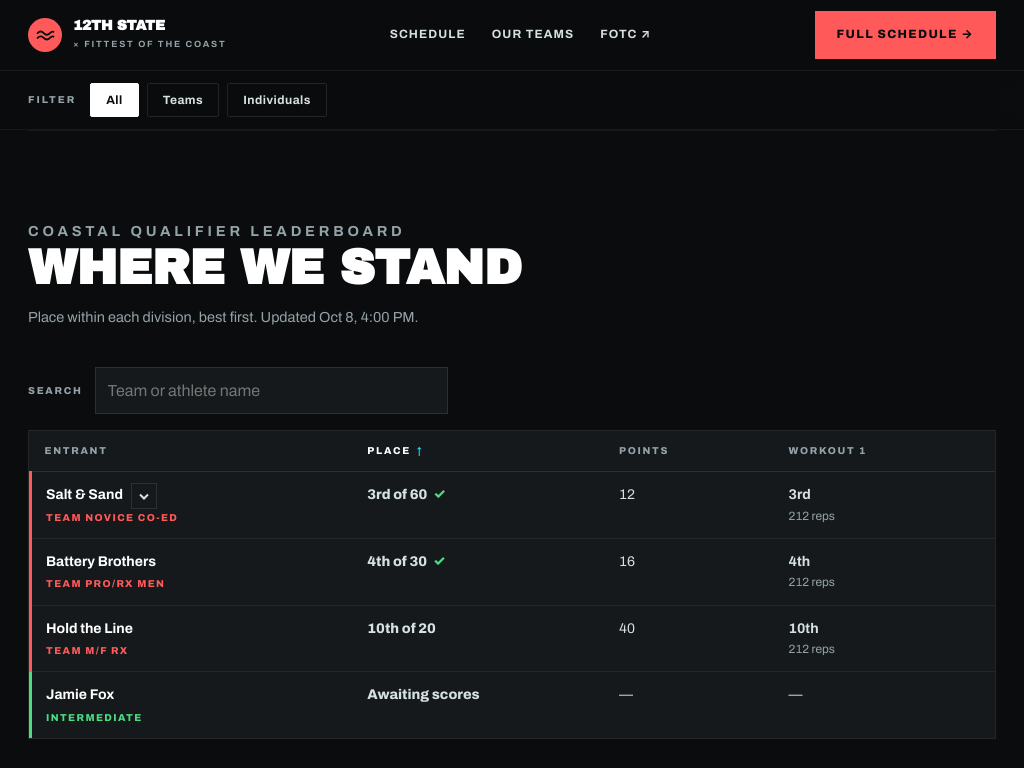
Road to Charleston › narrows the standings with the same filter as the roster
Click the button "Individuals": (277, 100) [227, 83, 327, 117]
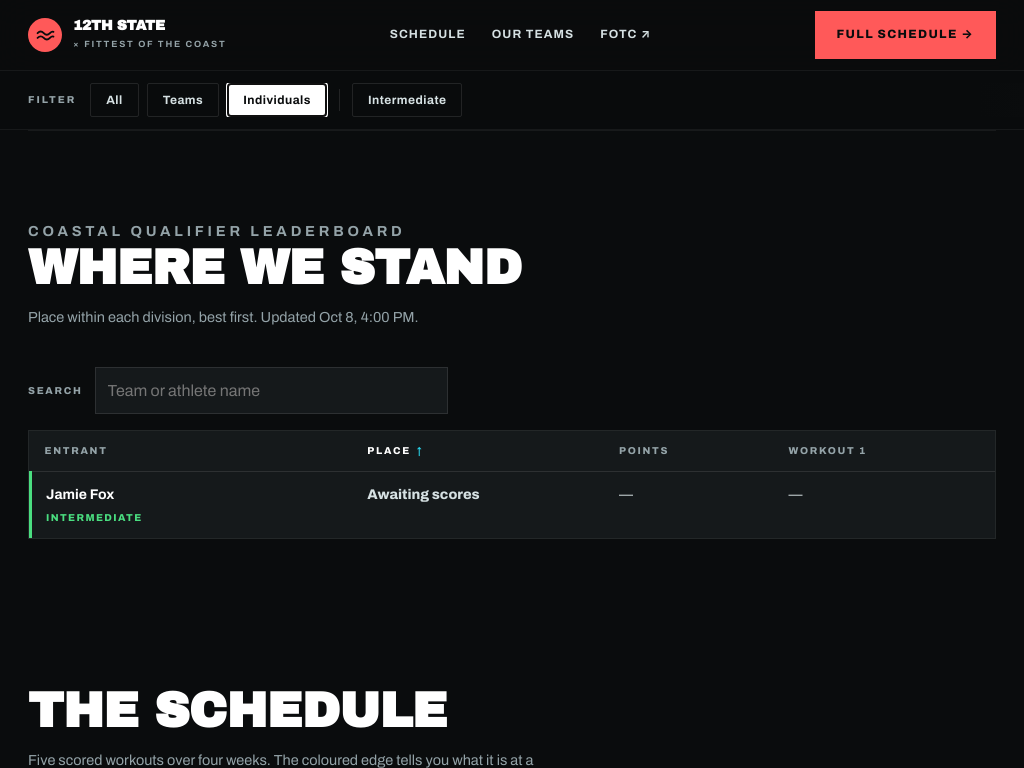
Expected: the text "Jamie Fox" is shown, [46, 487, 114, 502]
Expected: the text "Salt & Sand" is gone
